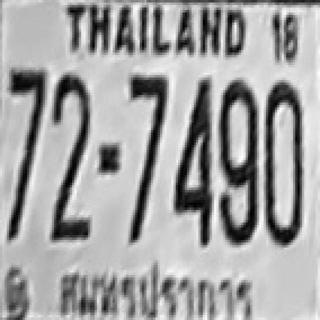N00: (265, 79, 303, 247)
N02: (49, 73, 90, 238)
N04: (173, 77, 215, 248)
N07: (128, 74, 167, 243), (9, 68, 45, 238)
N09: (219, 78, 260, 245)
P57: (48, 256, 262, 320)
